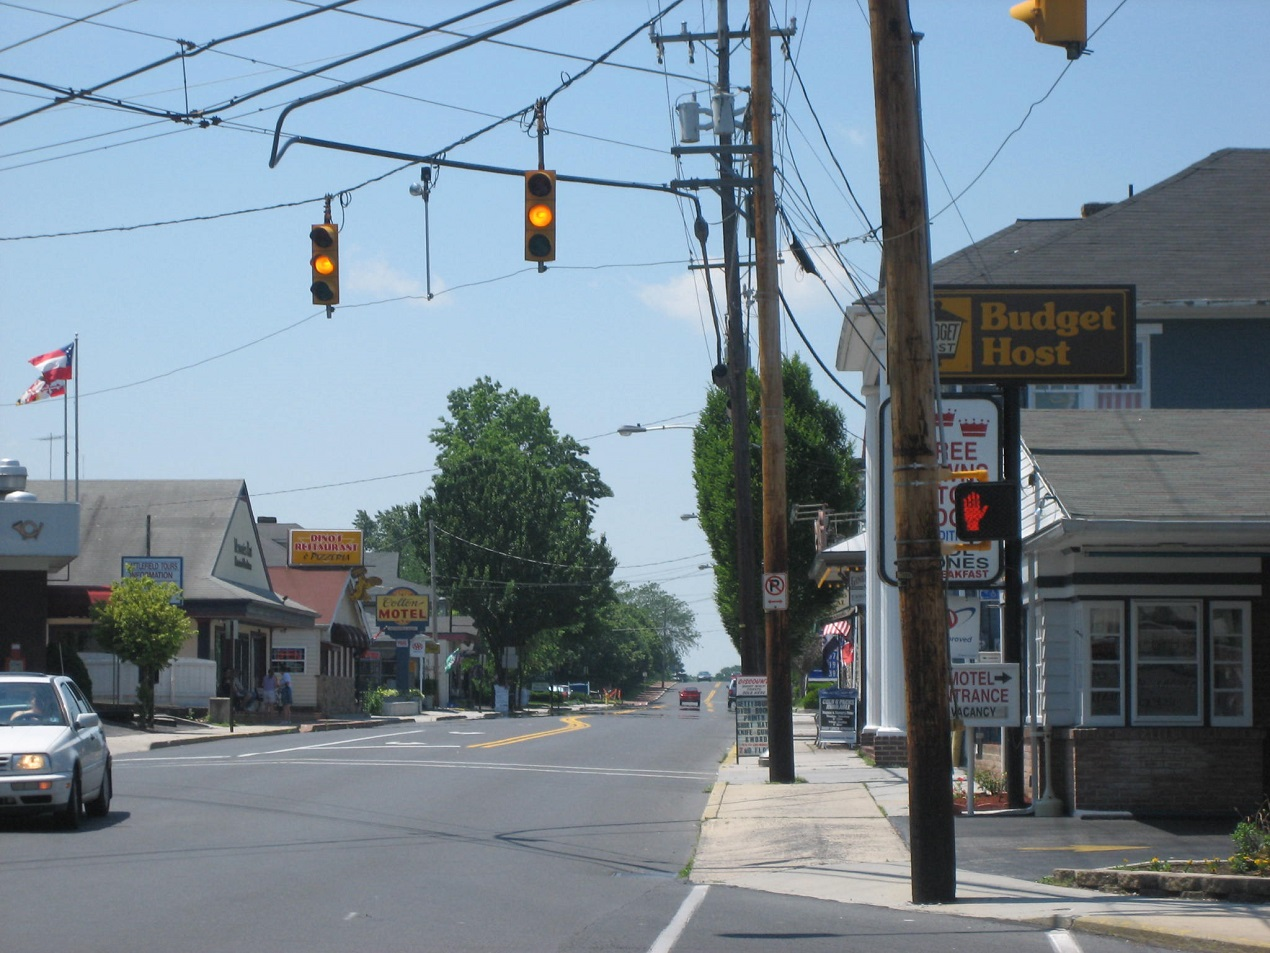traffic_light: (523, 169, 558, 263), (307, 222, 343, 307)
